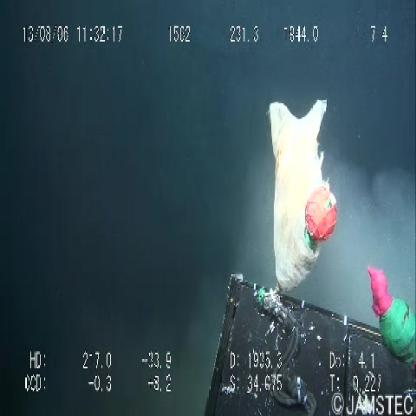Rov: (204, 266, 416, 416)
Rác: (262, 86, 336, 299)
